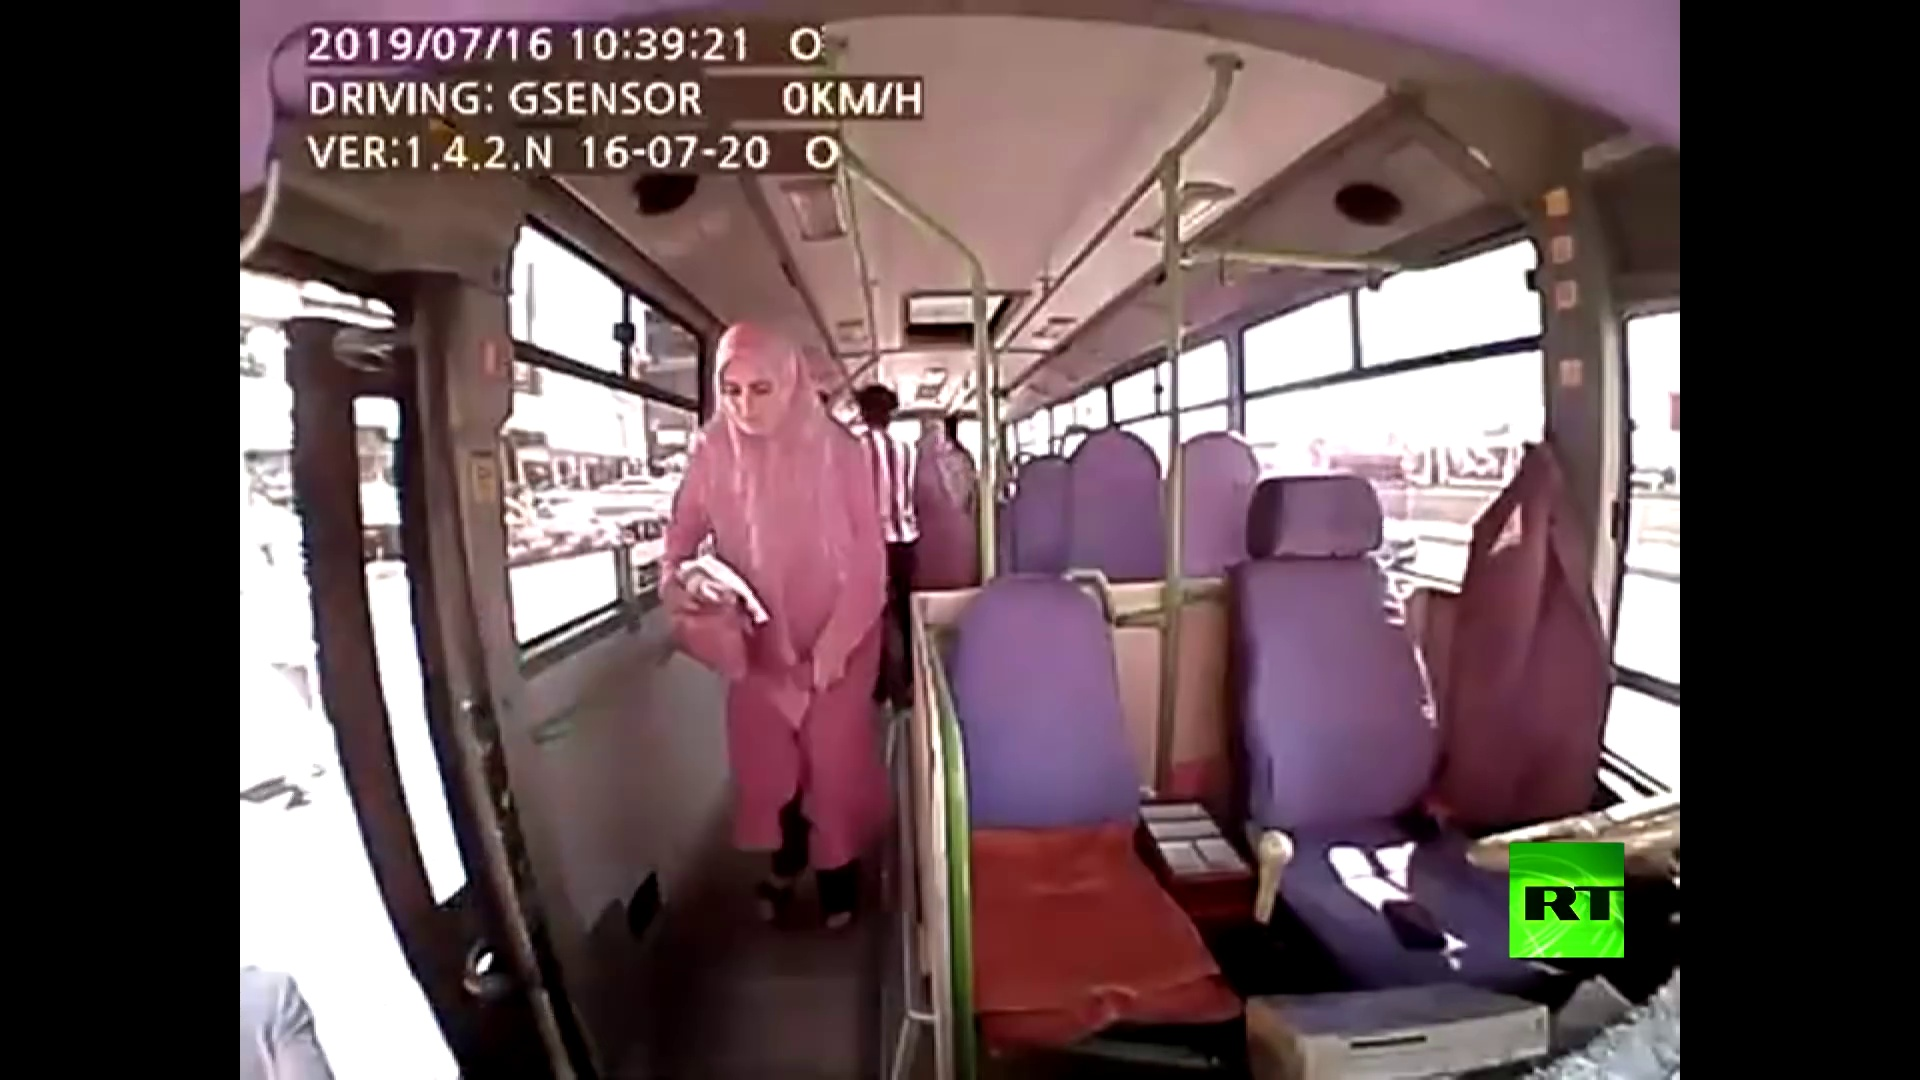face: (708, 357, 790, 435)
